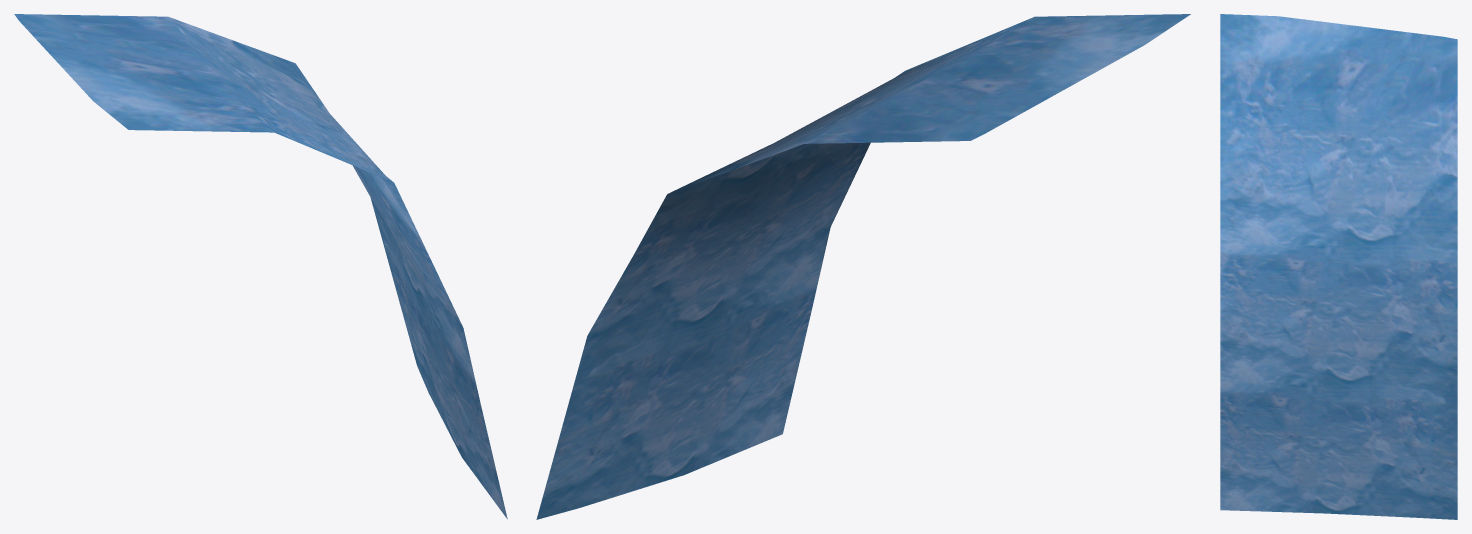
Rendered from IceB1.fbx.
3 renders of one model, left to right at view 1: azimuth 30°, elevation 25°; view 2: azimuth 150°, elevation 25°; view 3: azimuth 270°, elevation 25°, orthographic. The views are drawn at different scales.
Visible parts, largest first — view 1: IceB1; view 2: IceB1; view 3: IceB1.
Boxes of the visible parts, x1,y1,x2,y2 form: IceB1: [14, 14, 507, 519]; IceB1: [536, 14, 1190, 519]; IceB1: [1220, 14, 1457, 519].
Bounding box in the file's own units: 1438 × 1479 × 888.
